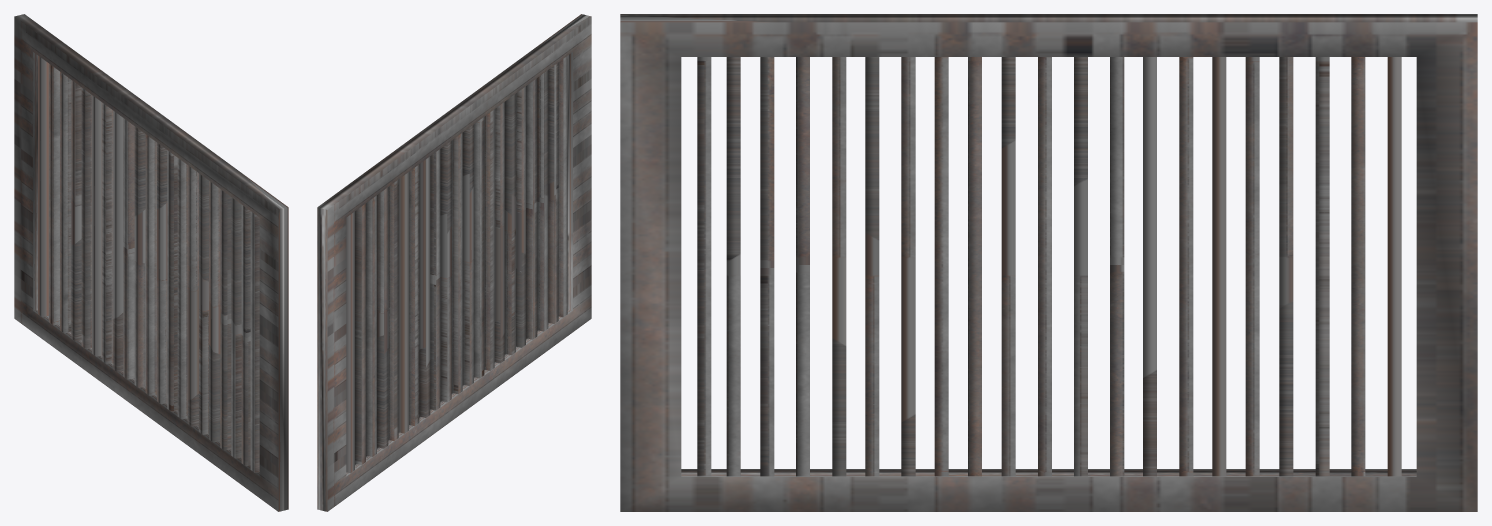
Rendered from gate2.fbx.
3 views of the same model, side by side, from view 1: azimuth 30°, elevation 25°; view 2: azimuth 150°, elevation 25°; view 3: azimuth 270°, elevation 25° (orthographic). The views are drawn at different scales.
Visible parts, largest first — view 1: SM_Grate_13; view 2: SM_Grate_13; view 3: SM_Grate_13.
Boxes of the visible parts, x1,y1,x2,y2 form: SM_Grate_13: (14, 14, 288, 511); SM_Grate_13: (317, 14, 591, 511); SM_Grate_13: (620, 14, 1477, 511).
Bounding box in the file's own units: 1.04 × 29.13 × 46.21.
